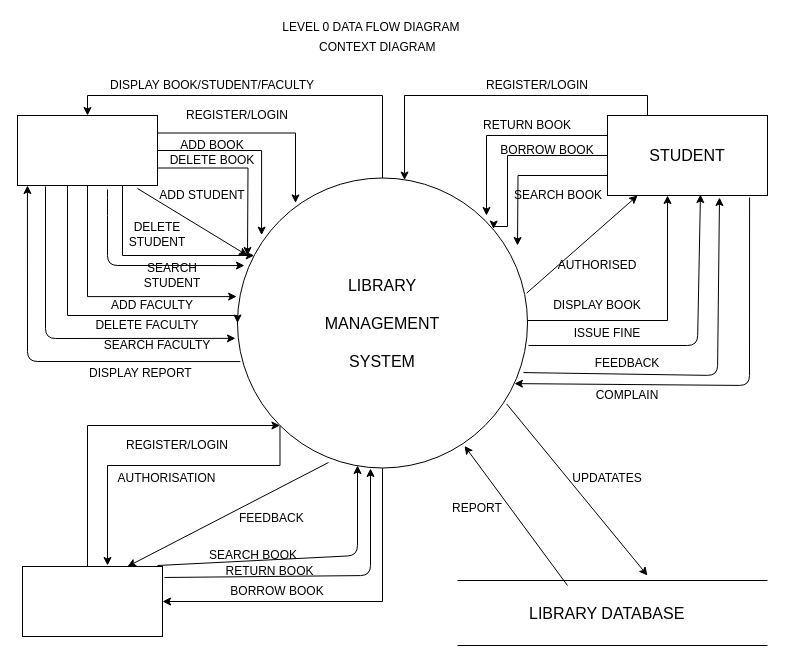
Some shapes in this 786 by 664 pixel diagram are drawn without their labels. Here are the shapes that lost their labels. From the top down, the box of each, then its label:
(16, 114, 158, 186): LIBRARIAN
(22, 566, 162, 636): FACULTY
